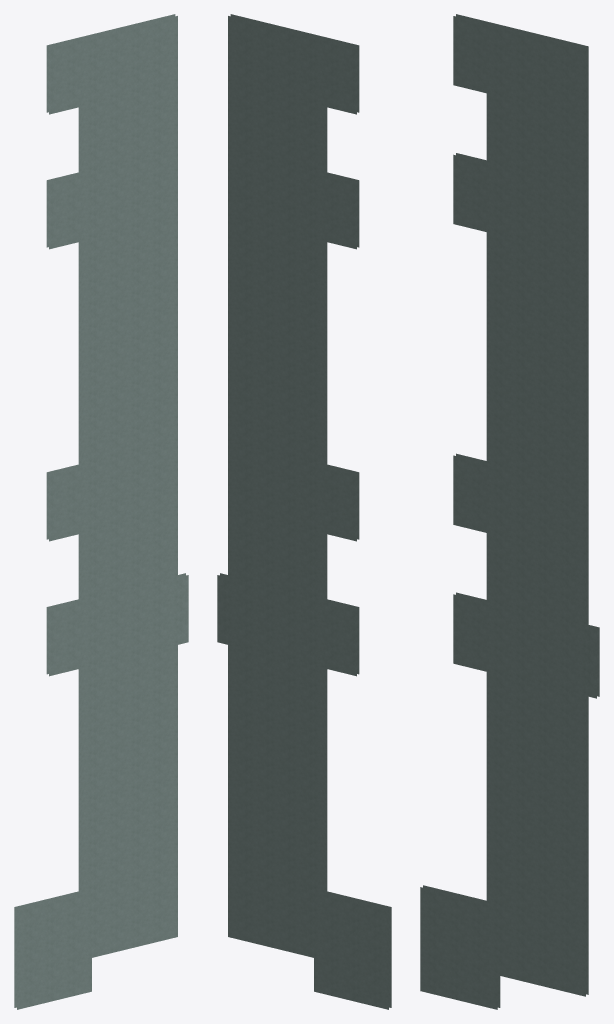
Rendered from floor_3.obj.
3 renders of one model, left to right at view 1: azimuth 30°, elevation 25°; view 2: azimuth 150°, elevation 25°; view 3: azimuth 330°, elevation 25°, orthographic. The views are drawn at different scales.
Visible parts, largest first — view 1: floor_3; view 2: floor_3; view 3: floor_3.
Part boxes in pixels (bbox=[...]): floor_3: bbox=[14, 14, 188, 1009]; floor_3: bbox=[217, 14, 391, 1009]; floor_3: bbox=[420, 14, 599, 1009].
Bounding box in the file's own units: 4 × 21.25 × 0.1.
1 material, 1 textured.
